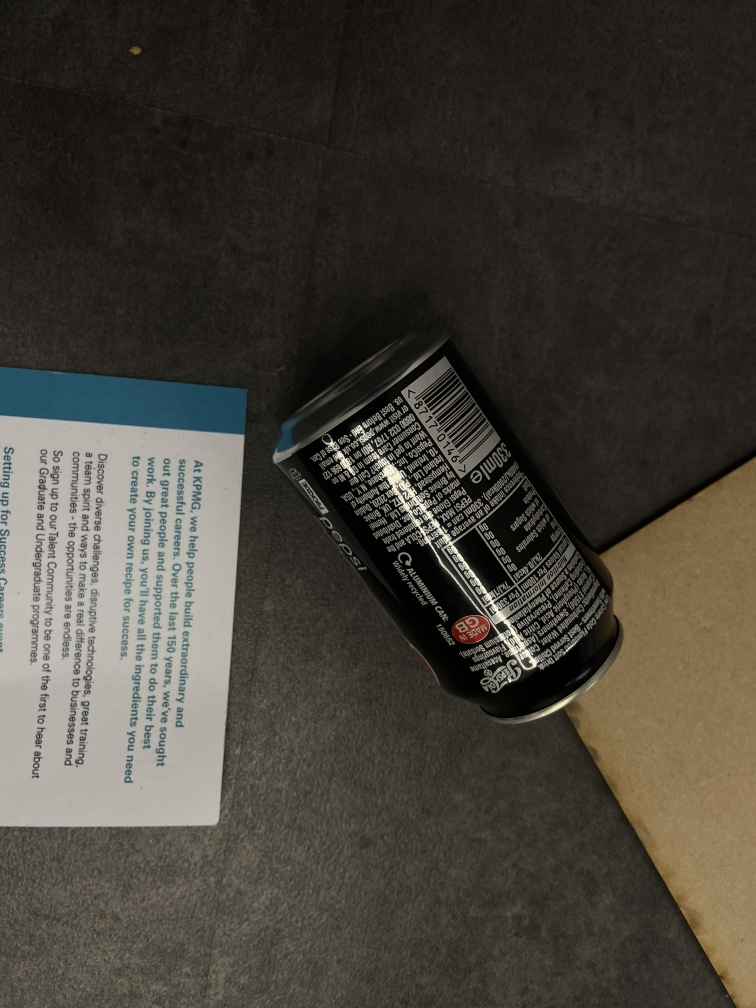can_black: (268, 322, 628, 726)
